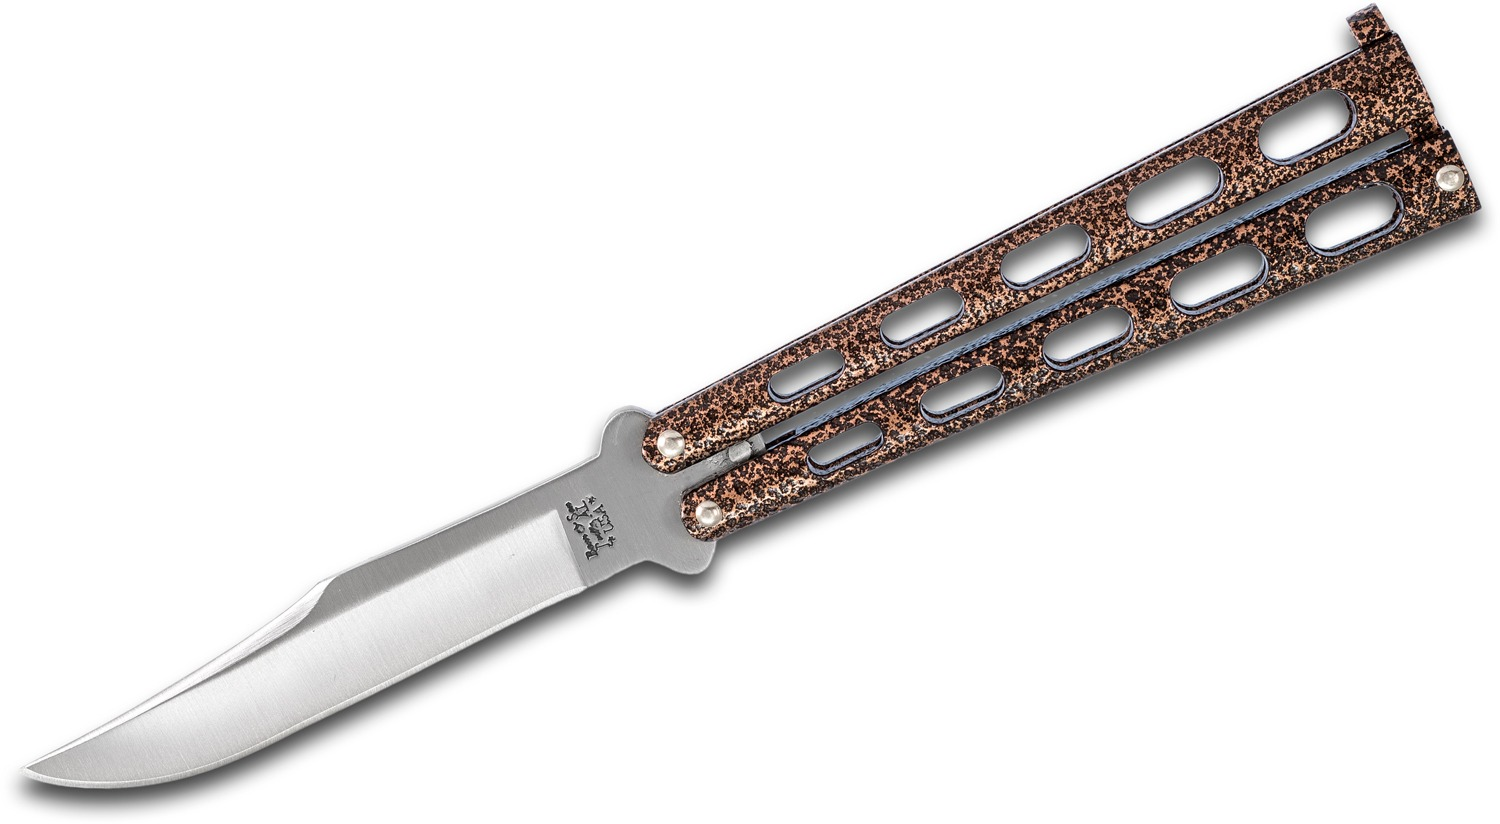knife: (19, 22, 1481, 822)
